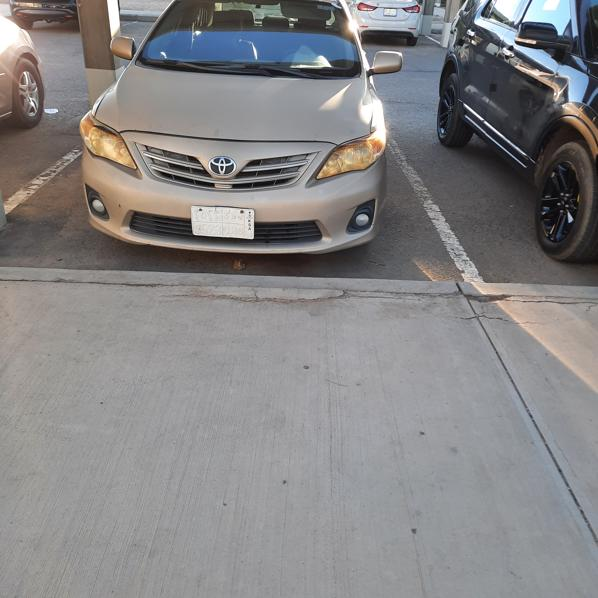numberplate: (191, 206, 255, 238)
